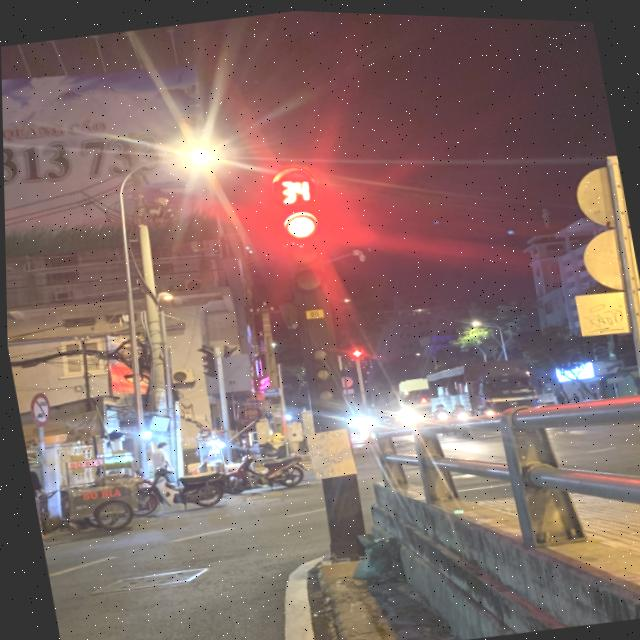Red: (275, 198, 331, 300)
